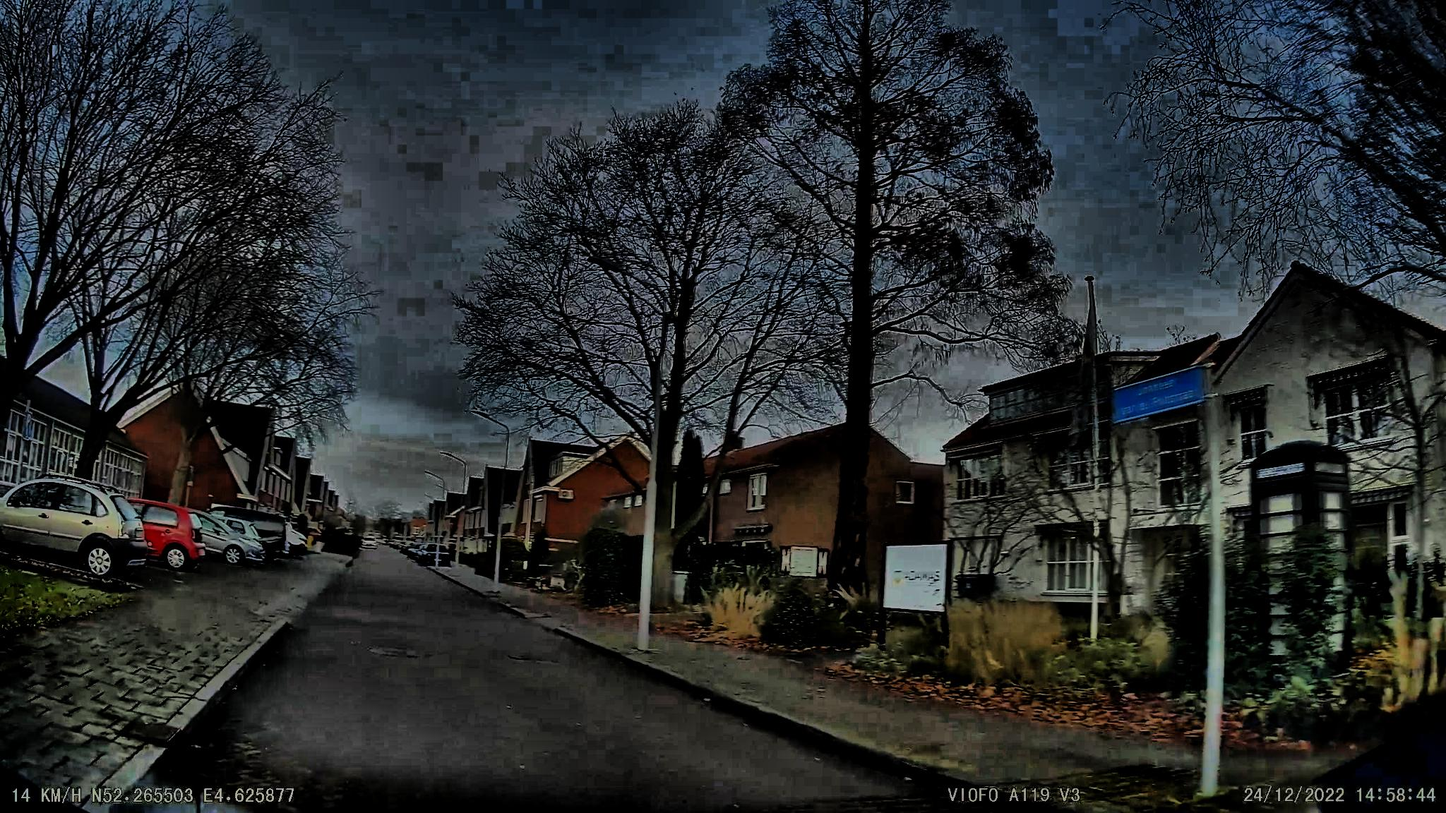Roads: (168, 556, 1053, 813)
